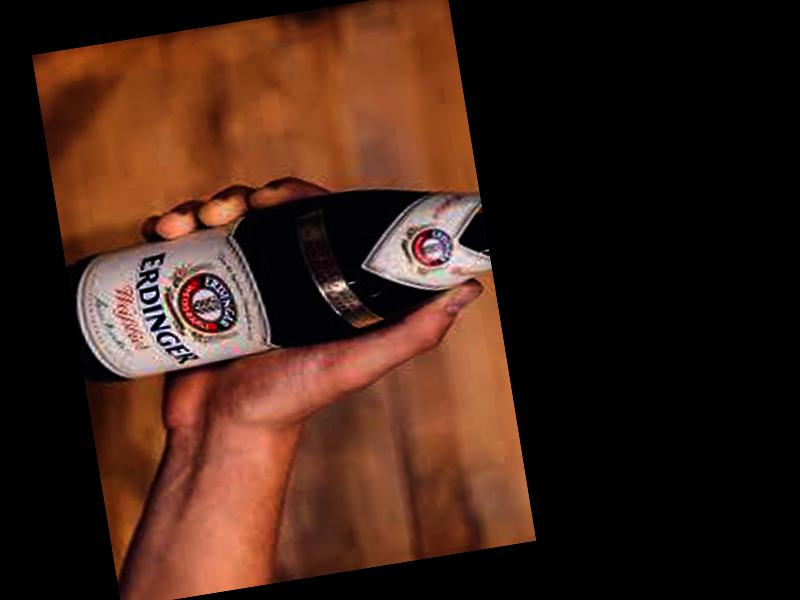Beer: (61, 171, 495, 389)
